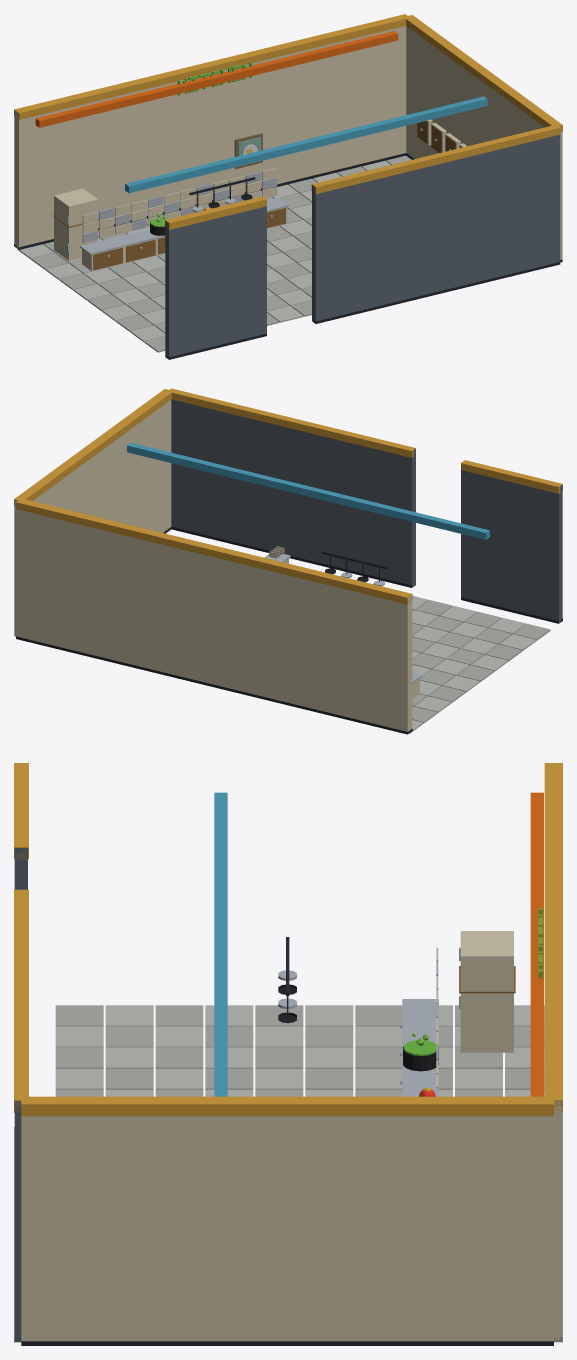
Rendered from kitchen.glb.
The picture shows the model from 3 angles, top to bottom: view 1: azimuth 30°, elevation 25°; view 2: azimuth 150°, elevation 25°; view 3: azimuth 270°, elevation 25°; orthographic projection. The views are drawn at different scales.
Visible parts, largest first — view 1: kitchen; view 2: kitchen; view 3: kitchen.
Part boxes in pixels (left/top/right/bottom): kitchen: left=14, top=14, right=562, bottom=359; kitchen: left=14, top=388, right=562, bottom=734; kitchen: left=14, top=763, right=562, bottom=1345.
Bounding box in the file's own units: 24.28 × 8.1 × 16.5.
